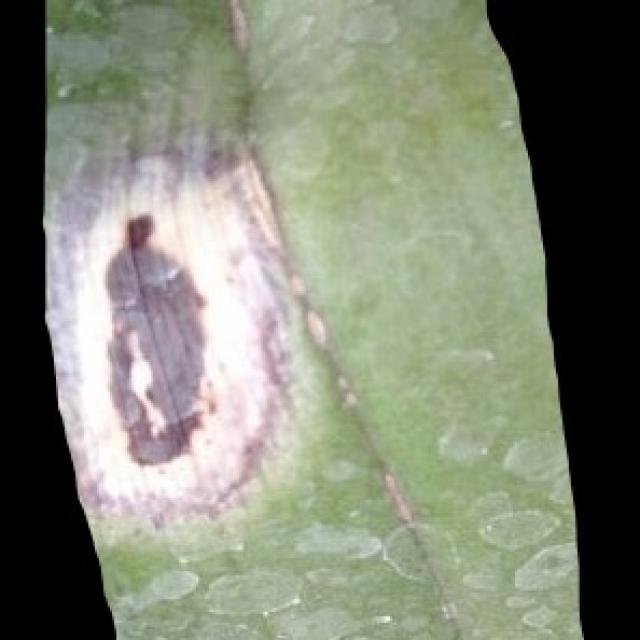mite: (47, 0, 252, 153), (431, 407, 509, 470), (54, 60, 142, 106), (287, 519, 381, 562), (476, 504, 556, 552), (142, 565, 200, 603)
sunburn: (97, 207, 222, 470)
